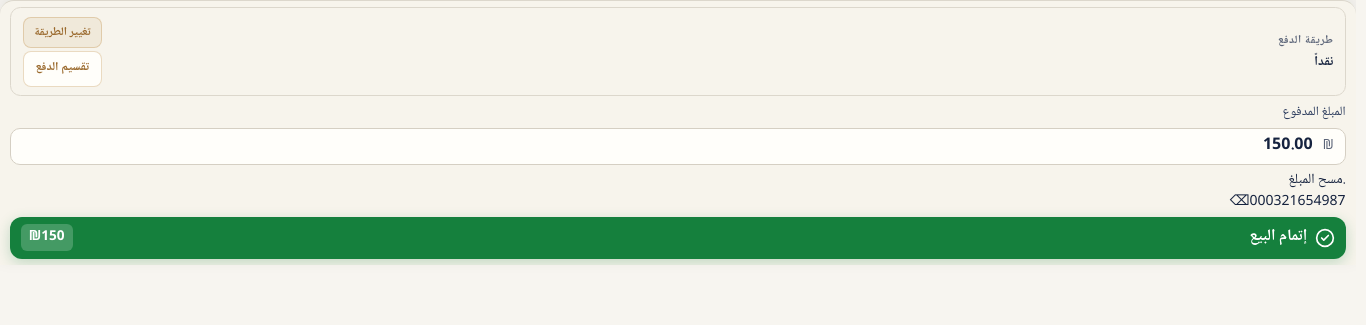
Test: AdvancedPaymentPanel numeric keypad › blocks checkout and reports the remaining amount when cash payment is short
Expected: the field labelled "المبلغ المدفوع" holds "150.00", [10,128,1346,165]
Click the button "مسح المبلغ". click: [1316, 181]
box: [1288,170,1343,192]
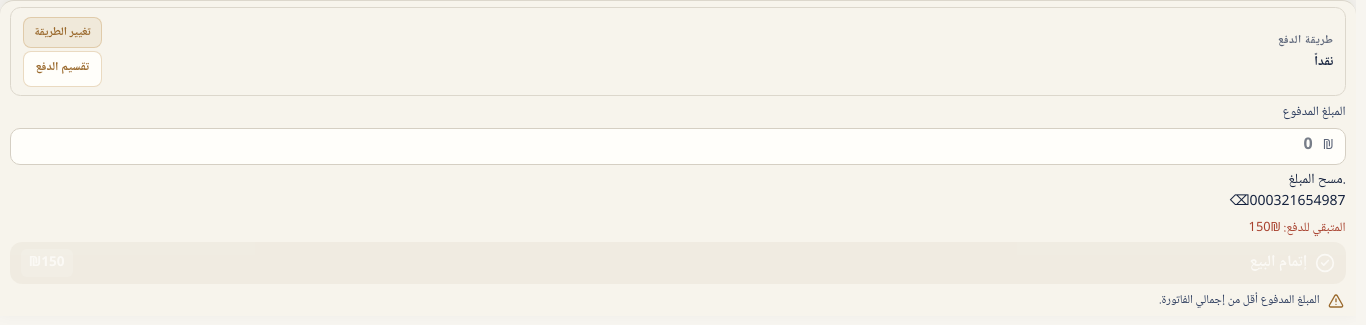
Click the button "1". click: [1294, 203]
box: [1290,192,1298,214]
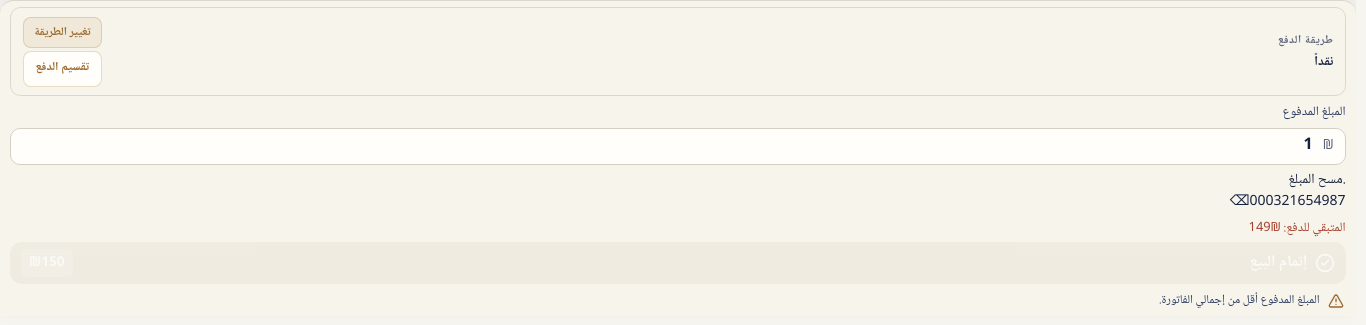
Click the button "0". click: [1253, 203]
box: [1249,192,1257,214]
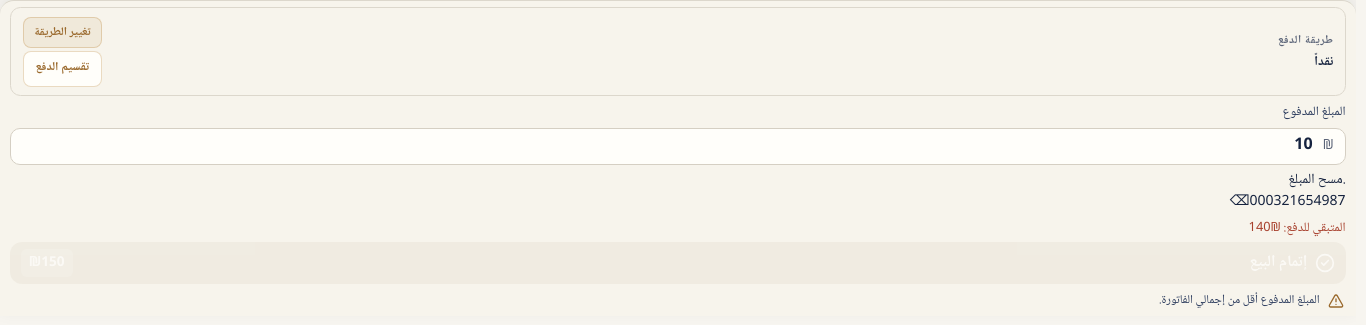
Click the button "0". click: [1253, 203]
box: [1249,192,1257,214]
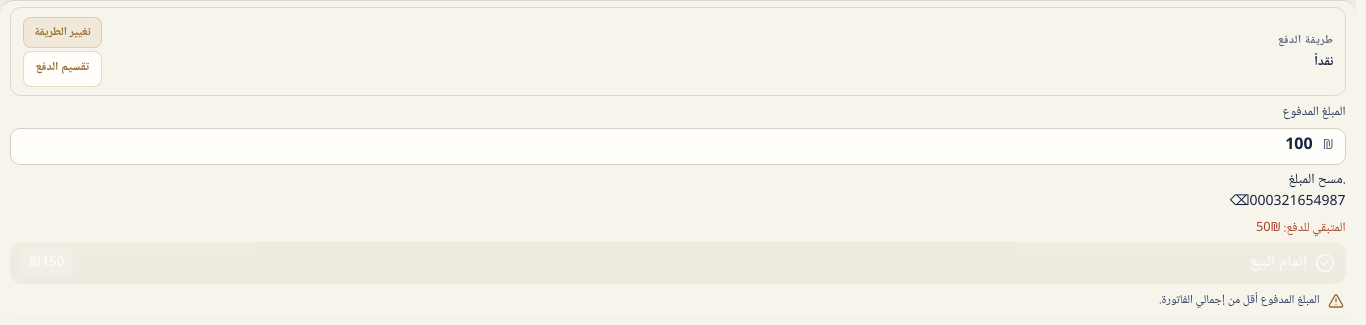
Expected: the text "المتبقي للدفع: ₪50" is shown, [1256,217,1346,239]
